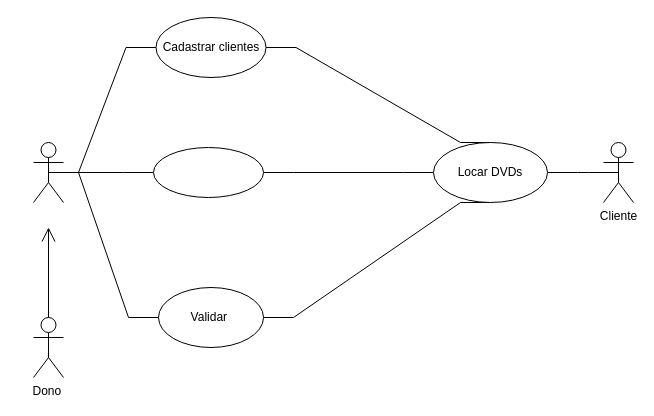
The diagram is 654 pixels wide and 416 high, and some of its shapes have lost their labels. Here are the shapes that lost their labels. From the top down, the centre of each, then its label:
(x=48, y=172): Funcionário
(x=208, y=172): Realizar locação
